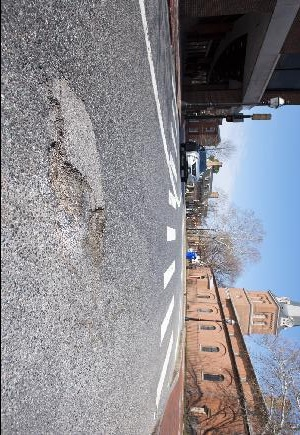pothole: (42, 138, 89, 214), (83, 205, 109, 269)
